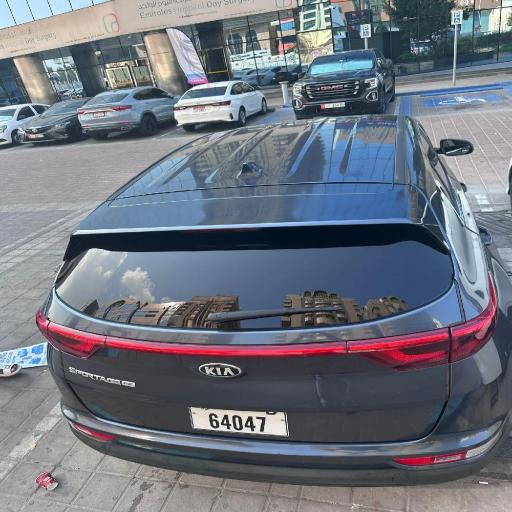license-plates: (190, 407, 288, 436), (321, 102, 345, 109), (193, 106, 205, 113), (28, 134, 44, 139), (94, 111, 104, 117)
